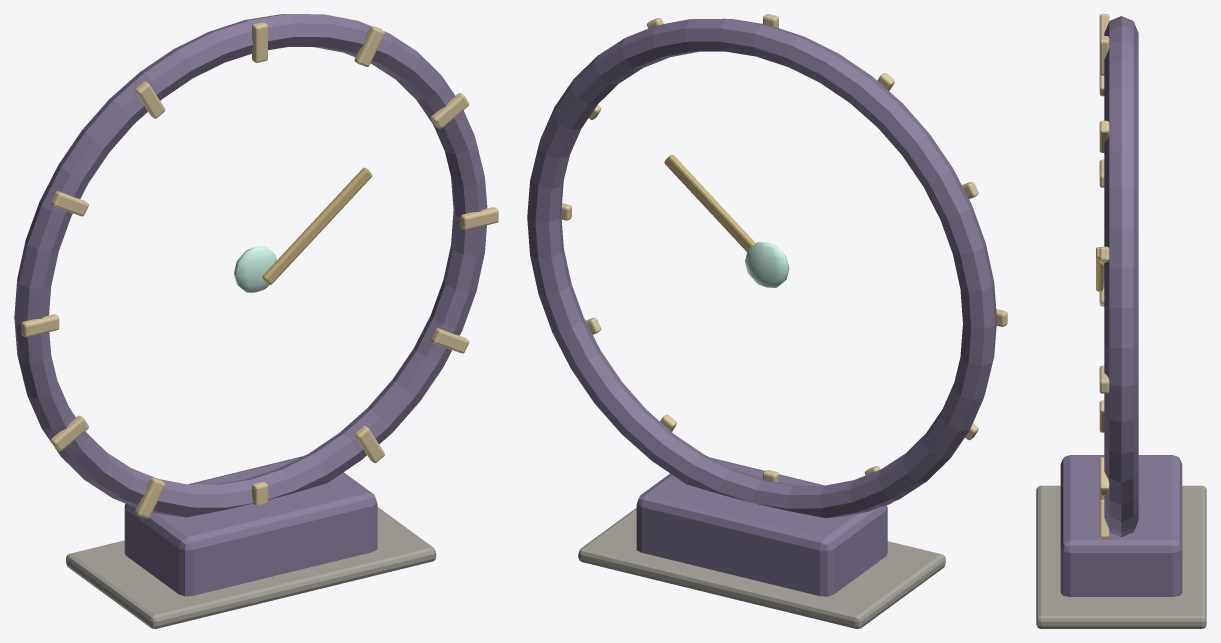
The model's file is meridian.glb.
The picture shows the model from 3 angles, left to right: view 1: azimuth 30°, elevation 25°; view 2: azimuth 150°, elevation 25°; view 3: azimuth 270°, elevation 25°; orthographic projection. The views are drawn at different scales.
Parts seen in each view (by area): view 1: meridian_Palette, meridian_Glow; view 2: meridian_Palette, meridian_Glow; view 3: meridian_Palette.
Part boxes in pixels (x1=…): meridian_Palette: x1=14, y1=14, x2=498, y2=628; meridian_Glow: x1=233, y1=246, x2=276, y2=292; meridian_Palette: x1=527, y1=14, x2=1007, y2=628; meridian_Glow: x1=745, y1=242, x2=789, y2=287; meridian_Palette: x1=1036, y1=14, x2=1206, y2=628.
Bounding box in the file's own units: 2.16 × 2.38 × 0.7.
